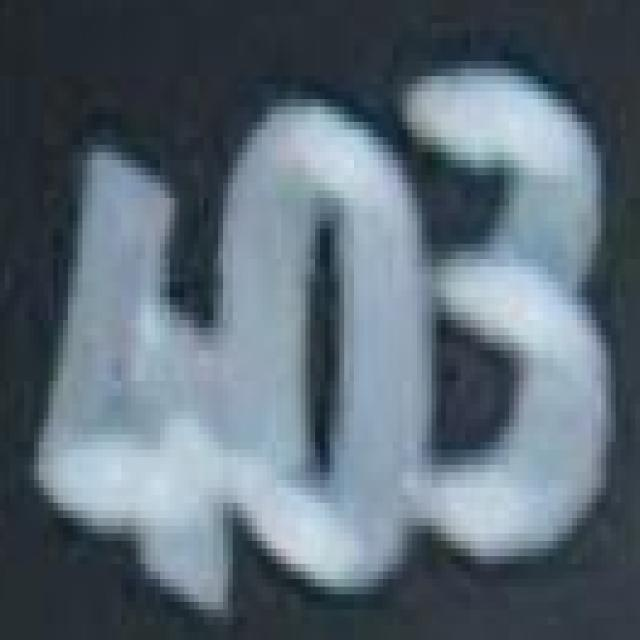character: (398, 55, 618, 596), (212, 93, 436, 605), (31, 145, 247, 626)
